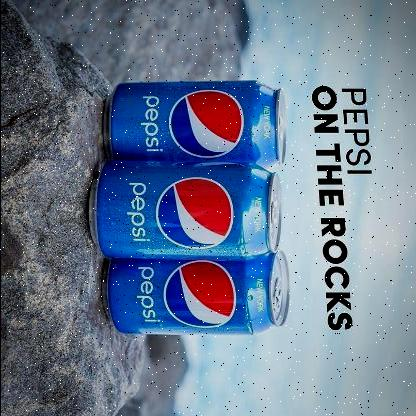Can: (86, 162, 284, 260), (100, 250, 290, 338), (102, 80, 288, 168)
